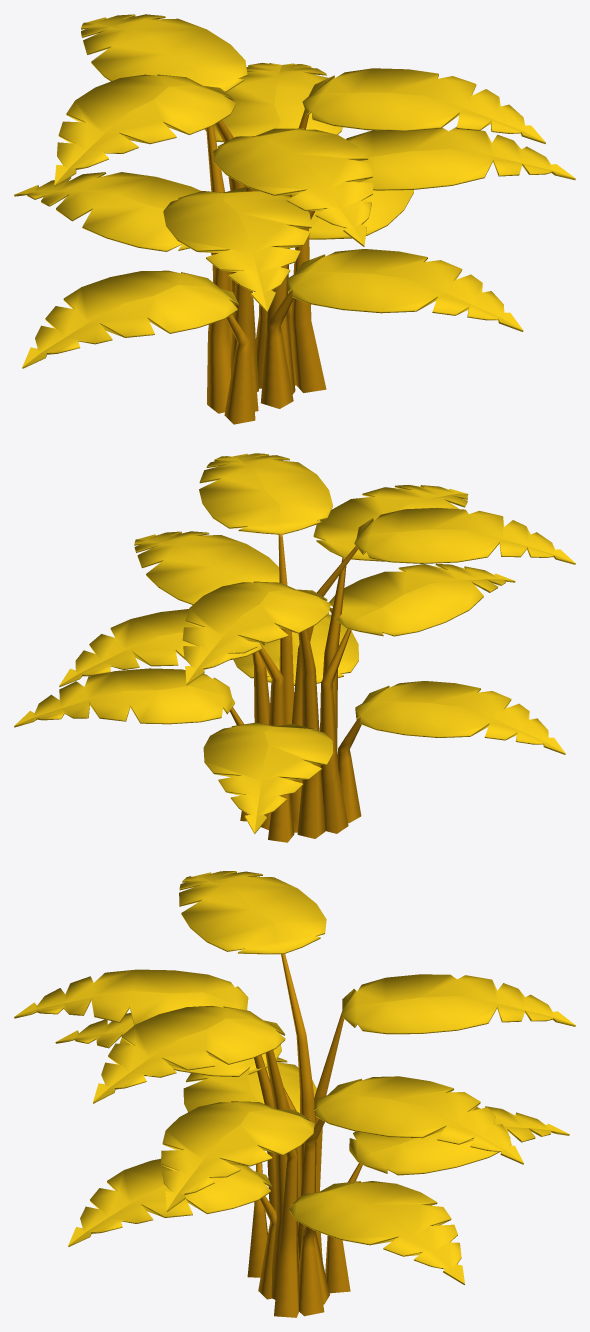
The model's file is wheat_crop.glb.
3 renders of one model, top to bottom at view 1: azimuth 30°, elevation 25°; view 2: azimuth 150°, elevation 25°; view 3: azimuth 270°, elevation 25°, orthographic. The views are drawn at different scales.
Visible parts, largest first — view 1: green_01.001; view 2: green_01.001; view 3: green_01.001.
Boxes of the visible parts, left/top/right/bottom form: green_01.001: left=14, top=14, right=575, bottom=424; green_01.001: left=14, top=453, right=575, bottom=842; green_01.001: left=14, top=871, right=575, bottom=1317.
Bounding box in the file's own units: 1.23 × 0.7797 × 1.22.
